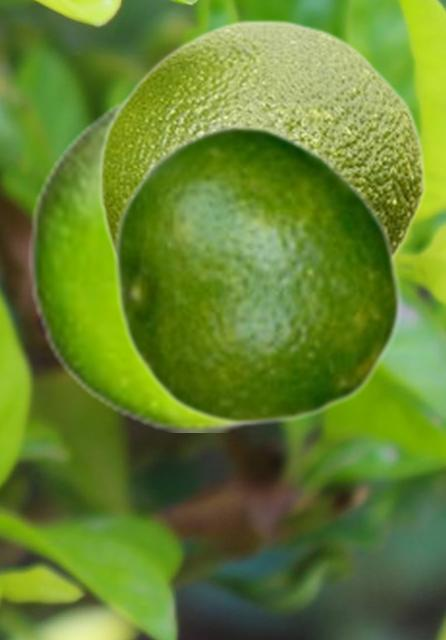calamansi: (111, 122, 403, 426), (28, 89, 273, 431), (97, 18, 425, 260)
